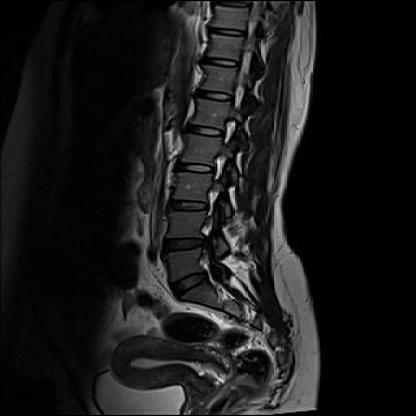Degenerative Disc Diseaserotation: (165, 234, 207, 254)
Disc Herniationrotation: (165, 234, 207, 254)
